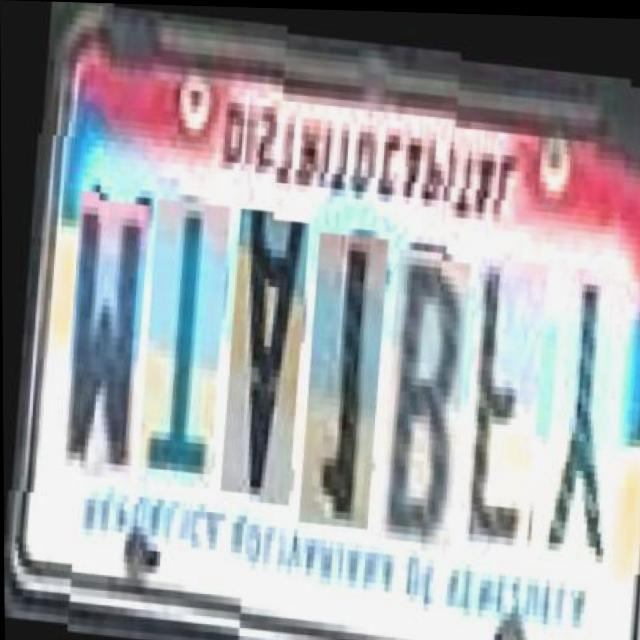1: (294, 232, 382, 529)
a: (214, 218, 302, 508)
b: (372, 247, 465, 544)
f: (451, 245, 541, 550)
m: (55, 211, 143, 494)
t: (130, 210, 222, 501)
y: (535, 254, 625, 558)
